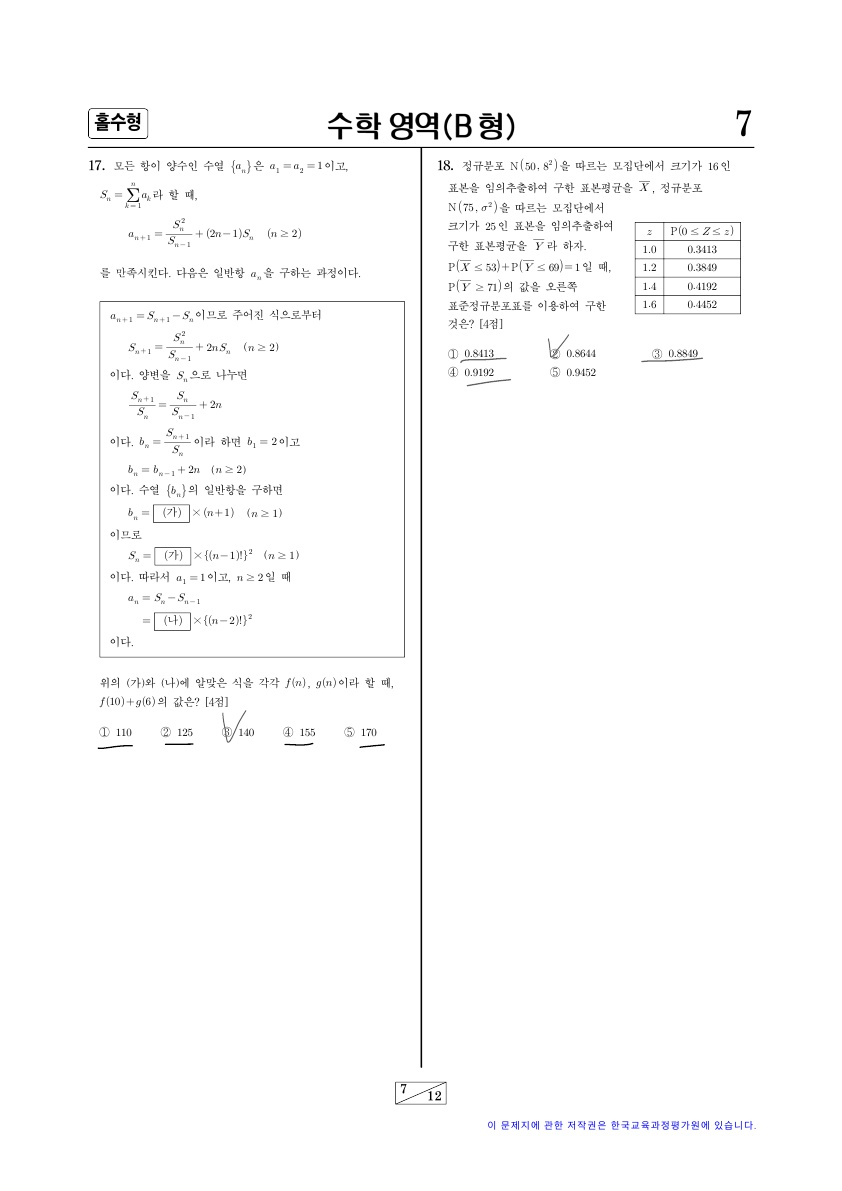question: (71, 147, 414, 767), (425, 148, 759, 400)
